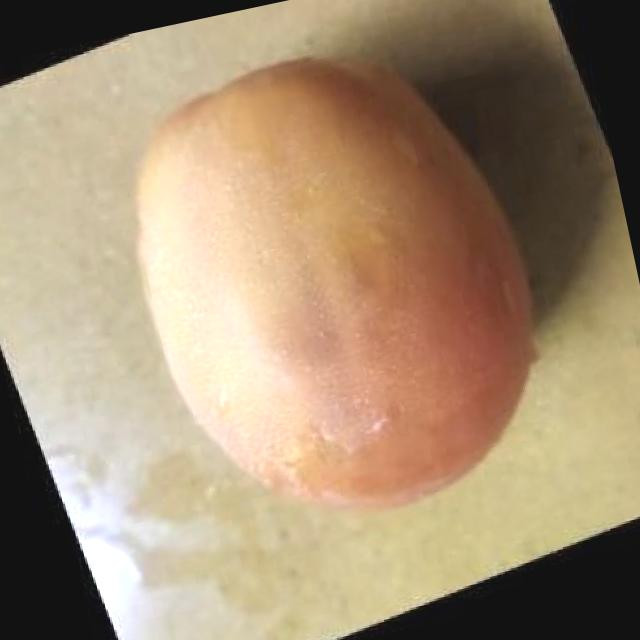Fresh_Tomato: (91, 5, 585, 564)
